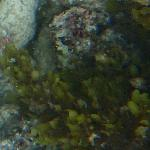dead: (1, 2, 144, 144)
